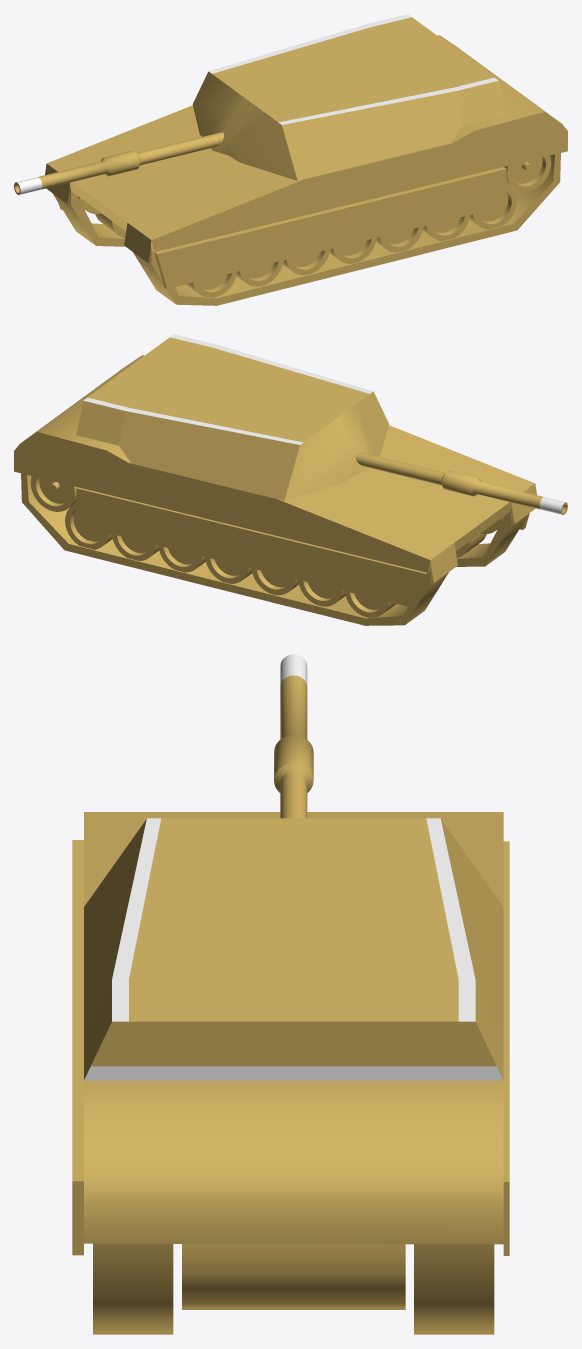
Rendered from tank.fbx.
The picture shows the model from 3 angles, top to bottom: view 1: azimuth 30°, elevation 25°; view 2: azimuth 150°, elevation 25°; view 3: azimuth 270°, elevation 25°; orthographic projection. The views are drawn at different scales.
Parts seen in each view (by area): view 1: Hull_LOD0, Turret_LOD0, Cannon_LOD0; view 2: Hull_LOD0, Turret_LOD0, Cannon_LOD0; view 3: Hull_LOD0, Turret_LOD0, Cannon_LOD0.
Boxes of the visible parts, x1,y1,x2,y2 form: Hull_LOD0: (45,35,567,305); Turret_LOD0: (192,14,505,180); Cannon_LOD0: (14,132,224,194); Hull_LOD0: (14,355,536,625); Turret_LOD0: (76,334,389,500); Cannon_LOD0: (355,452,567,514); Hull_LOD0: (72,812,509,1334); Turret_LOD0: (84,818,503,1080); Cannon_LOD0: (274,654,313,818).
Size of what is drawn, in the model's own units: 1069 by 311 by 406.
